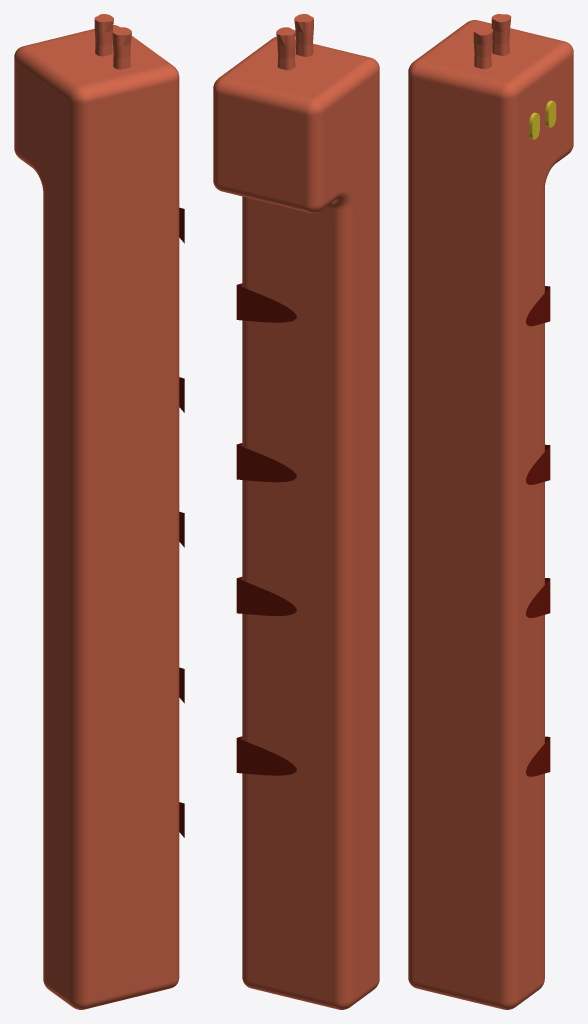
File: giraffe0.dae
3 views of the same model, side by side, from view 1: azimuth 30°, elevation 25°; view 2: azimuth 150°, elevation 25°; view 3: azimuth 330°, elevation 25° (orthographic).
Visible parts, largest first — view 1: _______; view 2: _______; view 3: _______.
Part boxes in pixels (box(x1,y1,x2,y2)): _______: box(14, 14, 184, 1009); _______: box(213, 14, 379, 1009); _______: box(408, 14, 573, 1009).
Size of the model in its own units: 1.29 by 10.66 by 1.37.
